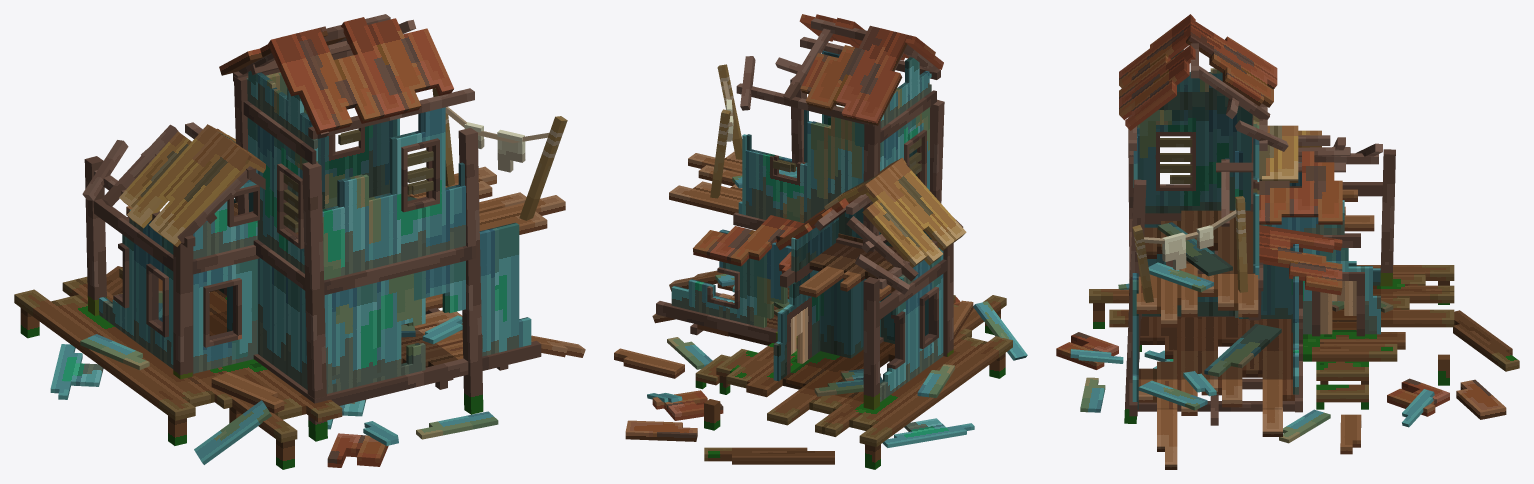
File: prop_village.glb
3 renders of one model, left to right at view 1: azimuth 30°, elevation 25°; view 2: azimuth 150°, elevation 25°; view 3: azimuth 270°, elevation 25°, orthographic. The views are drawn at different scales.
Parts seen in each view (by area): view 1: House-Local, House02-Local, d03-Local, h22-Local, Roof04-Local, d-Local, h2-Local, w7-Local, w4-Local, d1ddd1-Local, w-Local, w9-Local (+20 smaller); view 2: House-Local, h22-Local, hd-Local, House02-Local, h2-Local, d02-Local, Roof04-Local, d1-Local, d1ddd1-Local, h23-Local, w9-Local, trshu04-Local (+29 smaller); view 3: d-Local, h22-Local, ddd1e-Local, House02-Local, d03-Local, Roof03-Local, d1ddd1-Local, House-Local, d1-Local, d02-Local, dfag1-Local, dd2323-Local (+30 smaller).
Boxes of the visible parts, bbox=[...] form: House-Local: bbox=[243, 71, 541, 405]; House02-Local: bbox=[93, 169, 259, 375]; d03-Local: bbox=[268, 17, 453, 134]; h22-Local: bbox=[14, 268, 342, 469]; Roof04-Local: bbox=[119, 124, 249, 246]; d-Local: bbox=[248, 72, 464, 366]; h2-Local: bbox=[479, 223, 531, 356]; w7-Local: bbox=[302, 162, 327, 441]; w4-Local: bbox=[458, 128, 483, 414]; d1ddd1-Local: bbox=[410, 166, 565, 234]; w-Local: bbox=[173, 243, 192, 379]; w9-Local: bbox=[84, 156, 106, 315]; House-Local: bbox=[690, 50, 936, 343]; h22-Local: bbox=[695, 295, 1012, 469]; hd-Local: bbox=[777, 217, 931, 384]; House02-Local: bbox=[773, 237, 946, 401]; h2-Local: bbox=[656, 156, 797, 348]; d02-Local: bbox=[800, 25, 907, 125]; Roof04-Local: bbox=[862, 159, 966, 267]; d1-Local: bbox=[693, 215, 803, 273]; d1ddd1-Local: bbox=[669, 151, 742, 215]; h23-Local: bbox=[782, 341, 894, 401]; w9-Local: bbox=[863, 277, 879, 409]; trshu04-Local: bbox=[704, 447, 834, 464]; d-Local: bbox=[1137, 49, 1257, 358]; h22-Local: bbox=[1089, 265, 1454, 409]; ddd1e-Local: bbox=[1138, 317, 1292, 379]; House02-Local: bbox=[1235, 151, 1382, 336]; d03-Local: bbox=[1119, 14, 1195, 130]; Roof03-Local: bbox=[1259, 151, 1342, 224]; d1ddd1-Local: bbox=[1136, 263, 1258, 327]; House-Local: bbox=[1129, 68, 1294, 425]; d1-Local: bbox=[1259, 225, 1342, 295]; d02-Local: bbox=[1186, 18, 1277, 107]; dfag1-Local: bbox=[1144, 210, 1255, 273]; dd2323-Local: bbox=[1138, 379, 1294, 415].
Size of the model in its own units: 109 by 91.39 by 114.
Materials: 42 (42 with a texture image).
